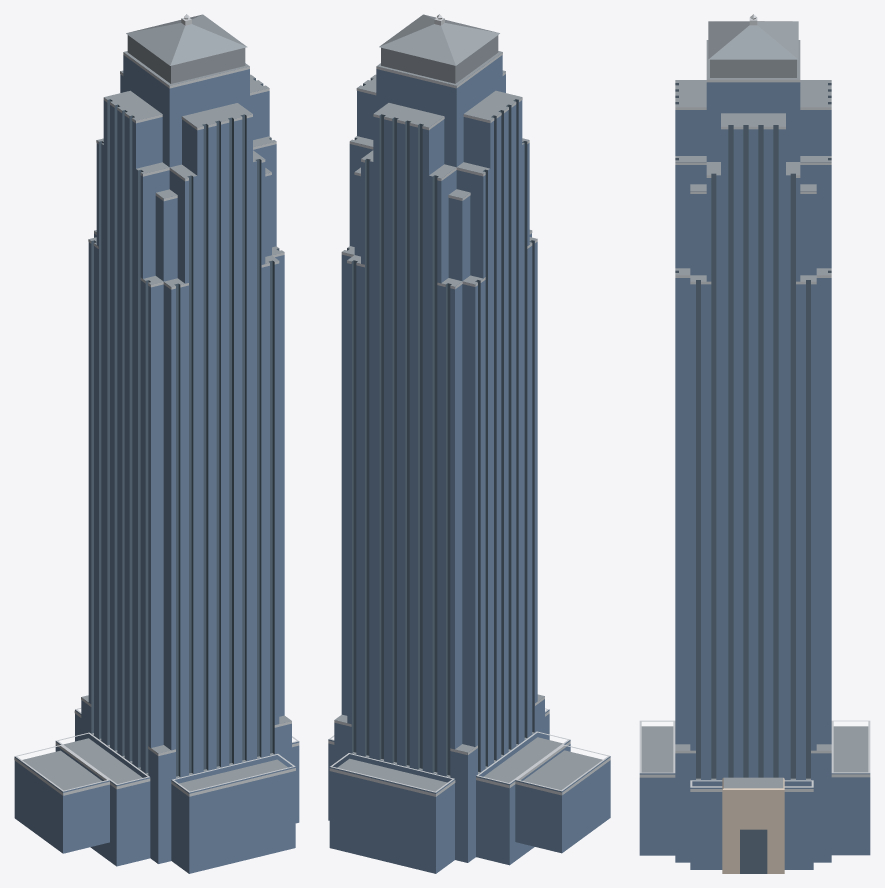
Rendered from hou-williams-tower.glb.
3 views of the same model, side by side, from view 1: azimuth 30°, elevation 25°; view 2: azimuth 150°, elevation 25°; view 3: azimuth 270°, elevation 25° (orthographic).
Visible parts, largest first — view 1: Williams Tower; view 2: Williams Tower; view 3: Williams Tower.
Part boxes in pixels (x1,y1,x2,y2): Williams Tower: [14, 14, 299, 873]; Williams Tower: [328, 14, 610, 873]; Williams Tower: [639, 14, 870, 873].
Bounding box in the file's own units: 85.2 × 276 × 71.
